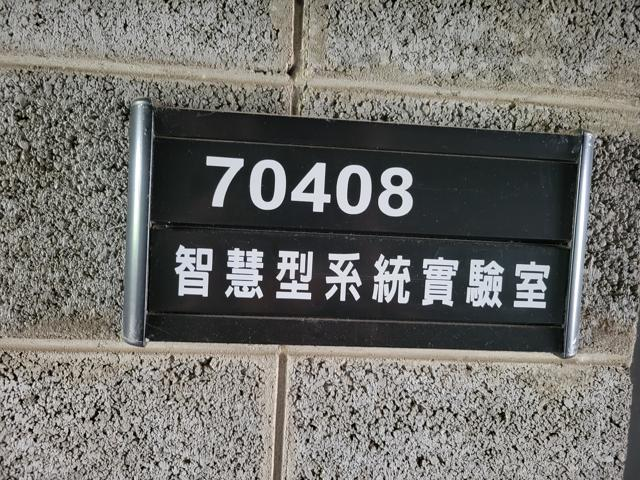doorplate: (110, 88, 603, 372)
